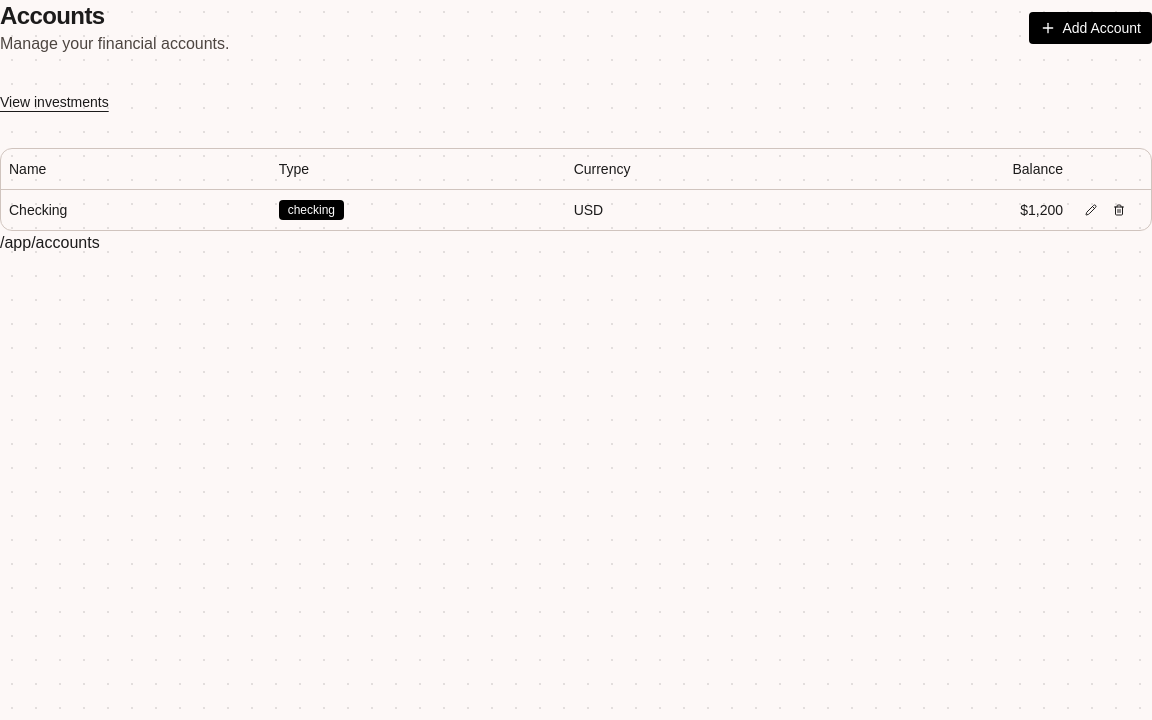
Test: Accounts page — opening balance semantics › locks and annotates the currency field when the account has transactions
Click the button named "Edit Checking": x=1091, y=210 [1079,198,1103,222]
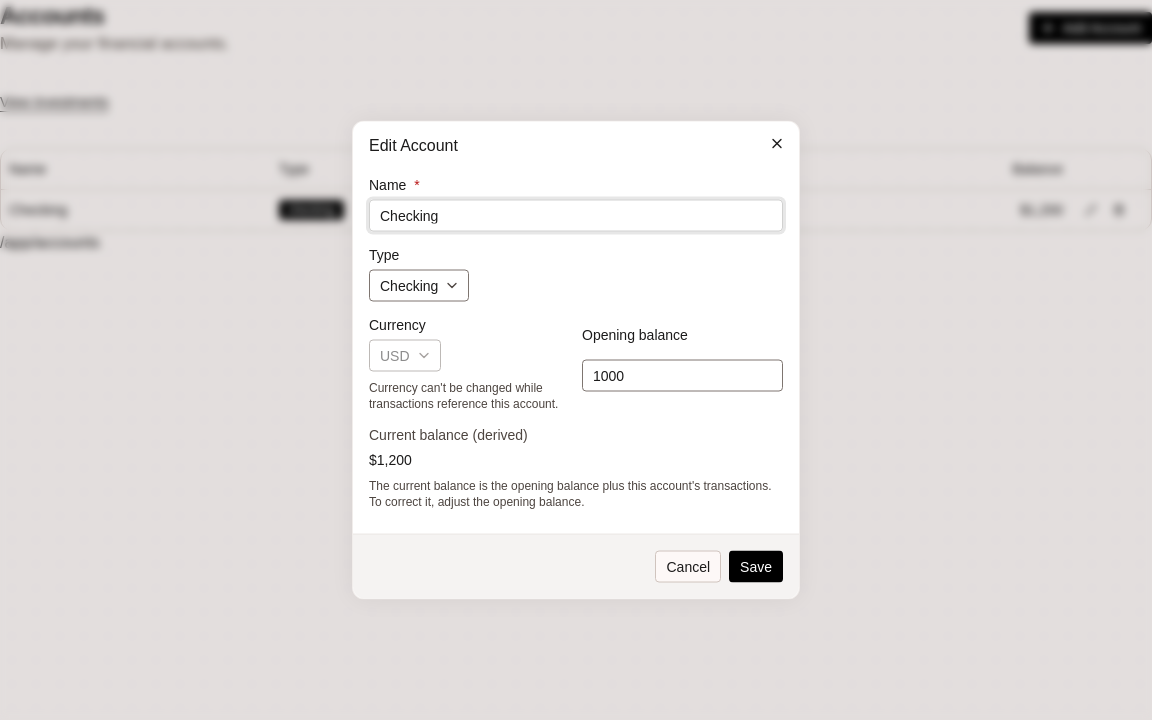
Result: the text "Currency can.t be changed while transactions reference" is shown at [369,380,558,410]
Result: the dropdown named "Currency" is disabled at [369,340,441,372]
